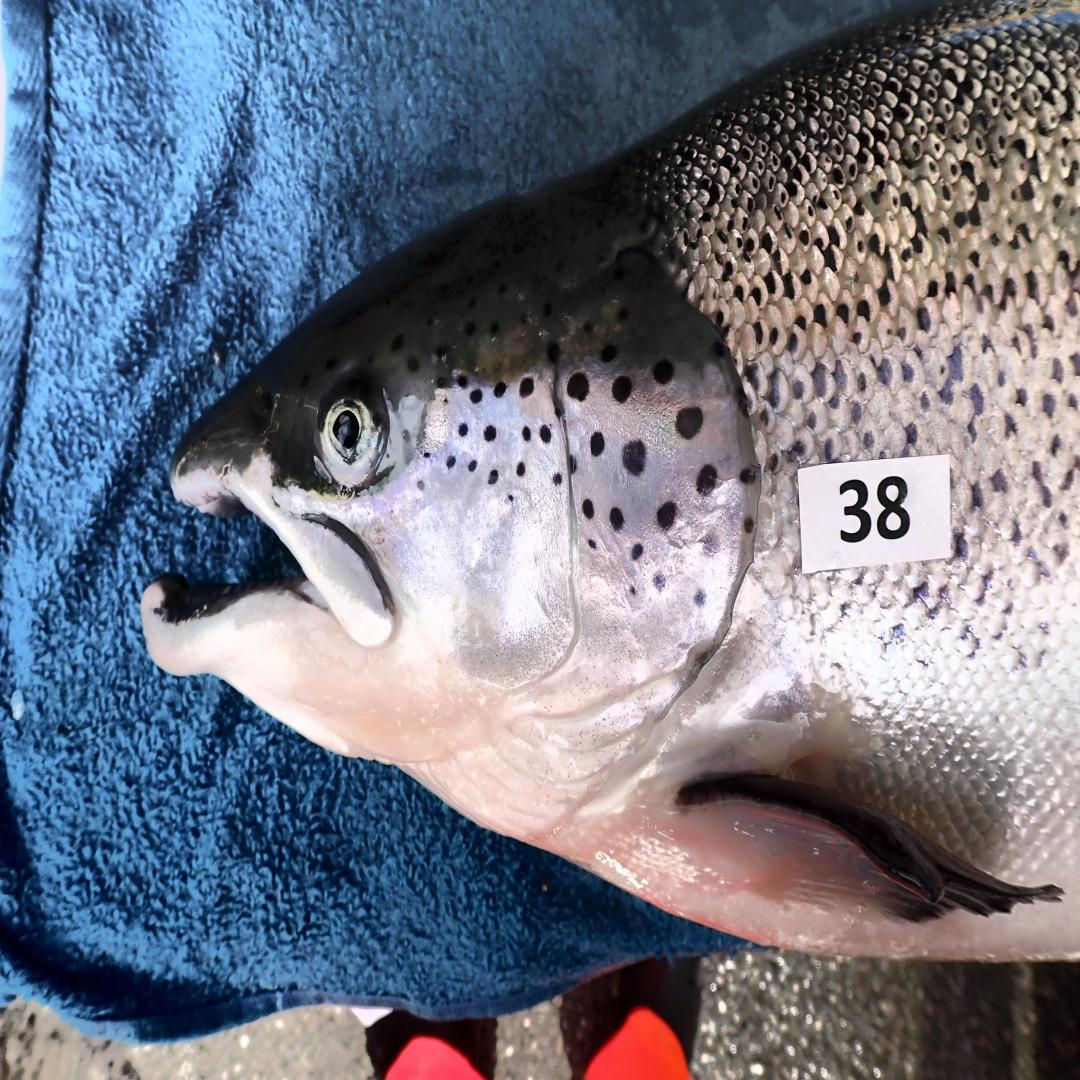spot: (675, 408, 702, 439), (622, 439, 645, 475), (567, 371, 589, 402), (696, 464, 717, 495), (656, 501, 677, 532), (699, 527, 720, 558), (652, 360, 673, 385), (612, 377, 633, 402), (692, 585, 709, 610), (610, 506, 624, 532), (591, 430, 605, 456), (600, 344, 617, 362), (652, 571, 667, 591), (519, 377, 534, 397), (740, 467, 757, 484), (567, 450, 578, 475), (582, 498, 595, 518), (742, 515, 755, 534), (483, 425, 496, 442), (470, 388, 483, 405), (540, 425, 551, 442), (494, 382, 506, 397), (632, 544, 643, 560), (456, 374, 468, 388), (521, 428, 532, 442), (487, 470, 498, 484), (445, 456, 456, 470), (553, 472, 563, 487), (416, 478, 426, 492), (517, 461, 525, 478), (468, 458, 477, 472), (458, 425, 468, 436), (589, 537, 597, 548), (423, 451, 431, 458), (508, 495, 514, 504), (630, 586, 636, 594)
